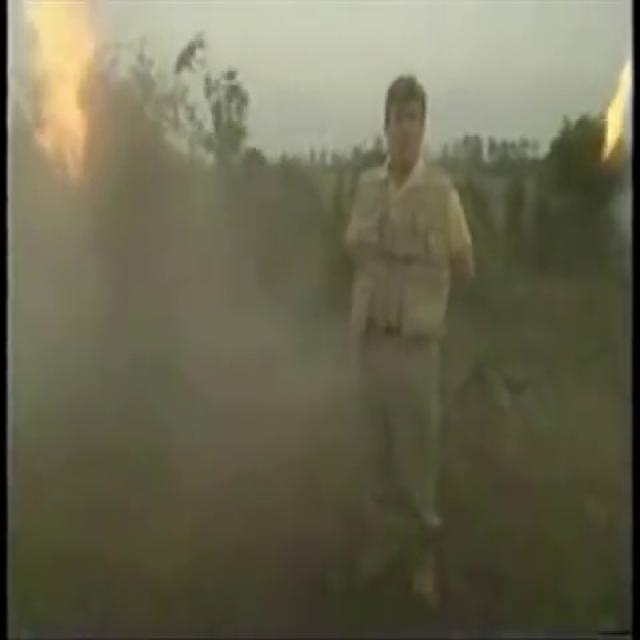Fire: (17, 0, 102, 165)
Smoke: (1, 0, 371, 631)
